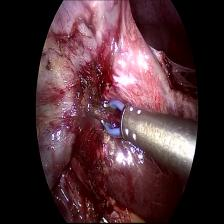Bipolar: (84, 97, 150, 146)
